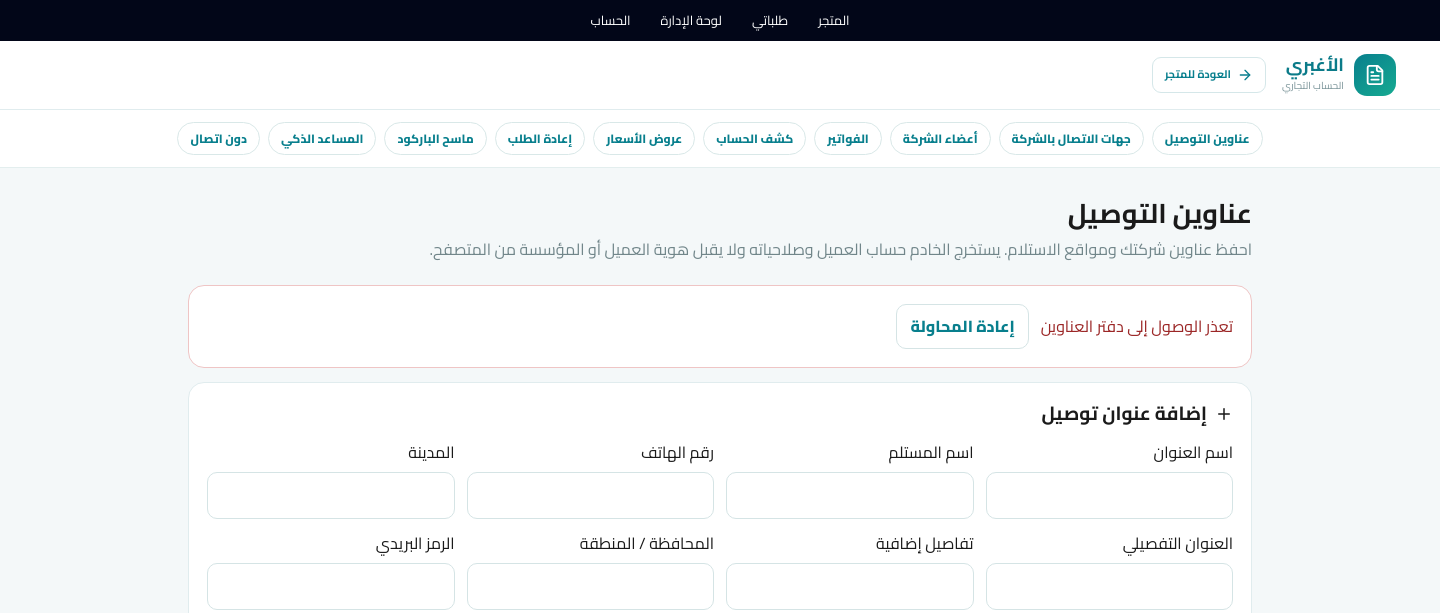
Scenario: customer addresses real route acceptance › shows a failed address read and recovers through the real retry control
Expected: the message "تعذر الوصول إلى دفتر العناوين إعادة المحاولة" is shown, top-left (188, 285), bottom-right (1252, 368)
Click the button "إعادة المحاولة".
click(963, 326)  # box top-left (896, 304), bottom-right (1029, 349)
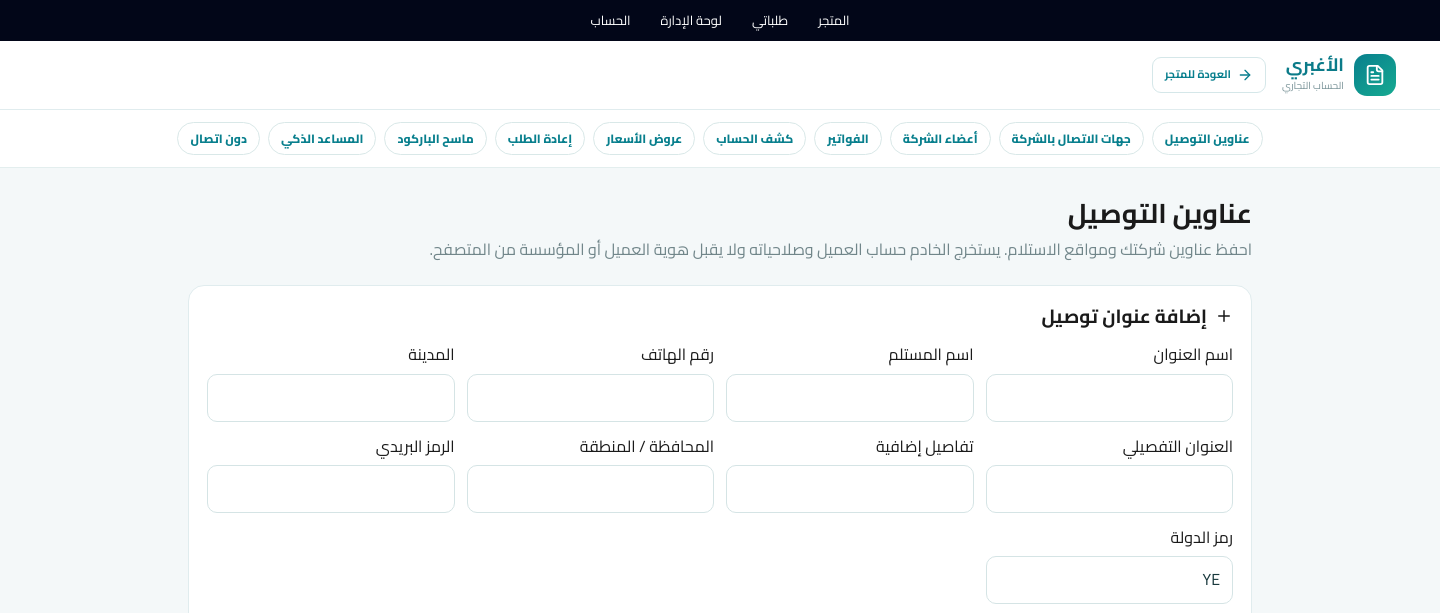
Expected: the message "تعذر الوصول إلى دفتر العناوين إعادة المحاولة" is gone
